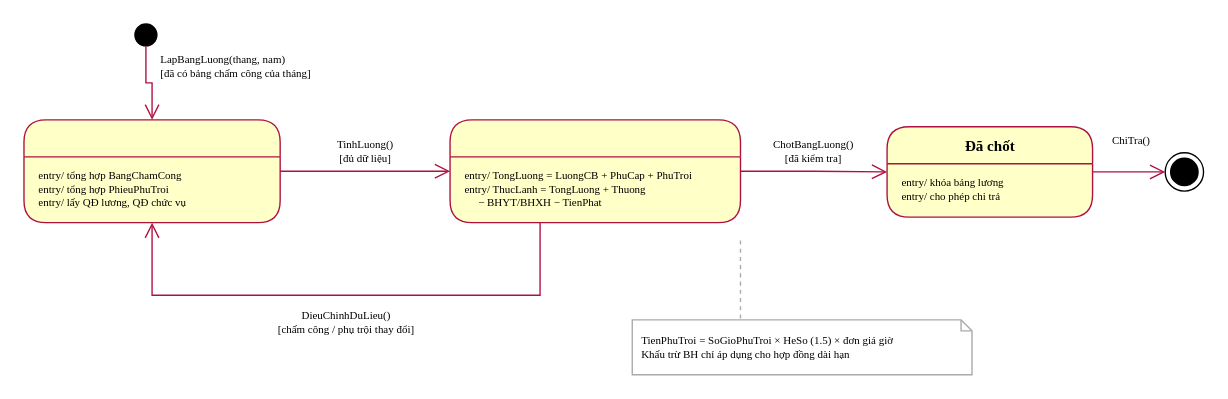
Some shapes in this 1228 by 399 pixel diagram are drawn without their labels. The box of each missing label's shape, as (x1, y1, x2, y2) in pixels:
Mới tạo: (23, 119, 280, 223)
Đã tính: (449, 119, 740, 223)
